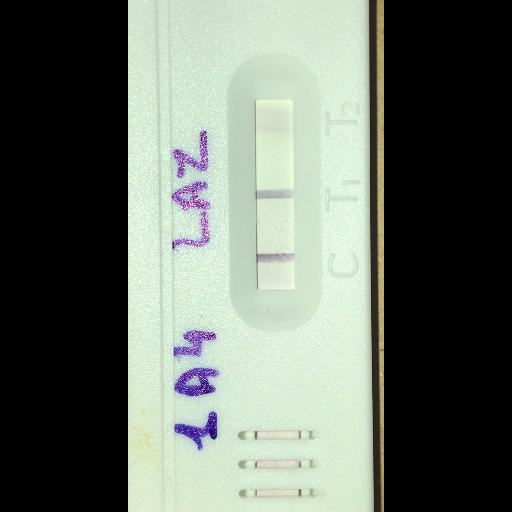Pos: (128, 0, 374, 510)
